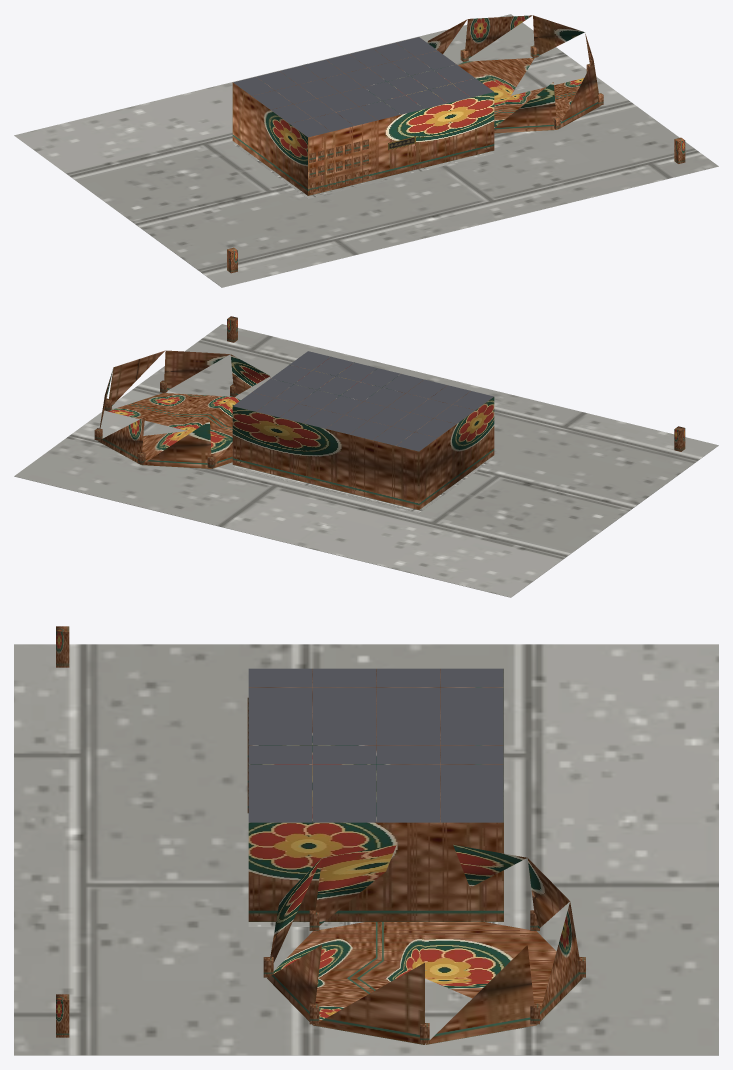
3 renders of one model, top to bottom at view 1: azimuth 30°, elevation 25°; view 2: azimuth 150°, elevation 25°; view 3: azimuth 270°, elevation 25°, orthographic. The views are drawn at different scales.
Parts seen in each view (by area): view 1: 11710_01_05540_015_01_L2__base, 11710_01_05540_015_02_L2__body, 11710_01_05540_015_03_L2__roof, 11710_01_05540_015_05_L2__openings, 11710_01_05540_015_06_L2__green; view 2: 11710_01_05540_015_01_L2__base, 11710_01_05540_015_02_L2__body, 11710_01_05540_015_03_L2__roof, 11710_01_05540_015_06_L2__green; view 3: 11710_01_05540_015_01_L2__base, 11710_01_05540_015_02_L2__body, 11710_01_05540_015_03_L2__roof, 11710_01_05540_015_06_L2__green.
Part boxes in pixels (x1,y1,x2,y2): 11710_01_05540_015_01_L2__base: [14, 14, 718, 287]; 11710_01_05540_015_02_L2__body: [232, 15, 603, 195]; 11710_01_05540_015_03_L2__roof: [233, 37, 493, 137]; 11710_01_05540_015_05_L2__openings: [309, 139, 368, 192]; 11710_01_05540_015_06_L2__green: [227, 137, 685, 273]; 11710_01_05540_015_01_L2__base: [14, 324, 718, 597]; 11710_01_05540_015_02_L2__body: [94, 350, 494, 509]; 11710_01_05540_015_03_L2__roof: [233, 351, 493, 451]; 11710_01_05540_015_06_L2__green: [227, 316, 685, 451]; 11710_01_05540_015_01_L2__base: [14, 644, 718, 1055]; 11710_01_05540_015_02_L2__body: [248, 669, 585, 1044]; 11710_01_05540_015_03_L2__roof: [248, 668, 503, 822]; 11710_01_05540_015_06_L2__green: [56, 626, 69, 1037].
Size of the model in its own units: 160 by 19.02 by 116.
Materials: 5 (5 with a texture image).
